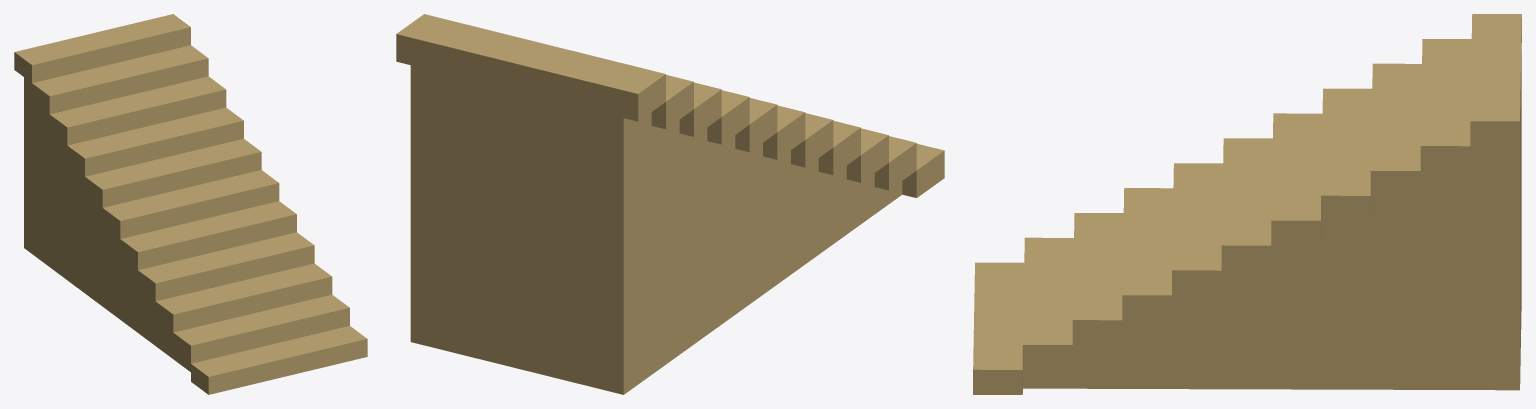
The model's file is buildingPart6.FBX.
3 views of the same model, side by side, from view 1: azimuth 30°, elevation 25°; view 2: azimuth 150°, elevation 25°; view 3: azimuth 270°, elevation 25° (orthographic). The views are drawn at different scales.
Visible parts, largest first — view 1: StraightStair001; view 2: StraightStair001; view 3: StraightStair001.
Part boxes in pixels (x1,y1,x2,y2): StraightStair001: (14,14,367,394); StraightStair001: (396,14,944,394); StraightStair001: (973,14,1521,394).
Size of the model in its own units: 17.94 by 21.14 by 38.19.
